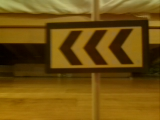left: (46, 24, 146, 71)
